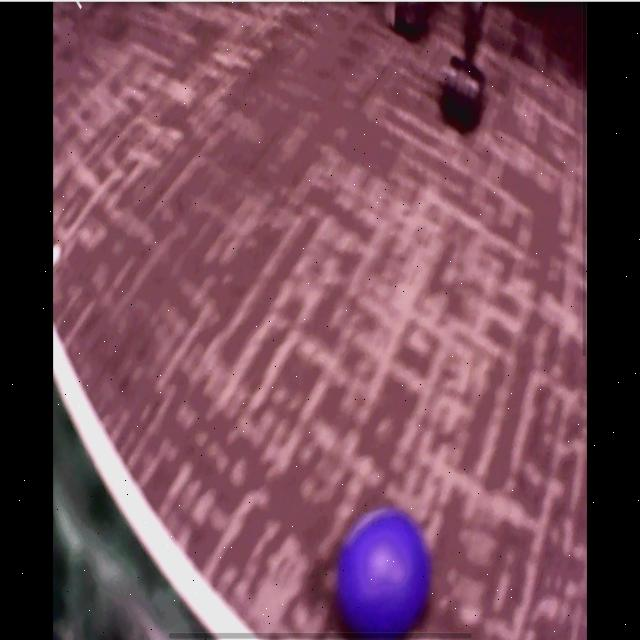ball: (338, 511, 431, 640)
